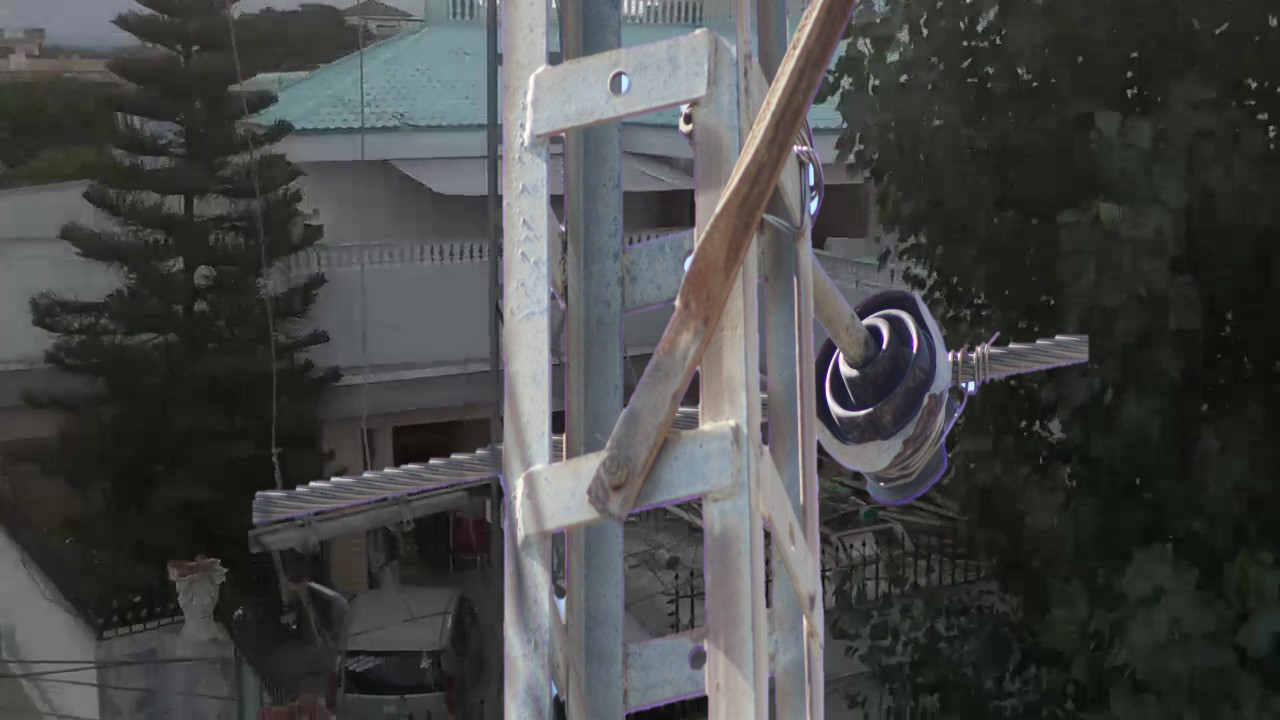defect_pin: (813, 275, 977, 517)
